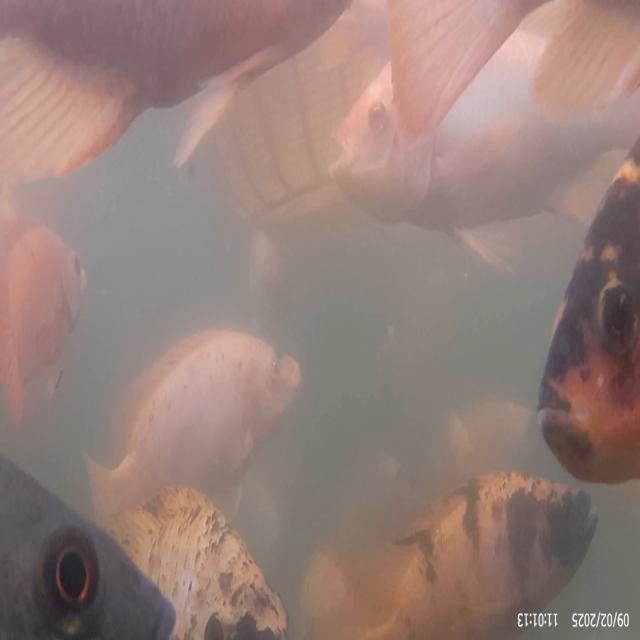ikan: (299, 468, 599, 638), (82, 325, 302, 524), (536, 132, 639, 484), (0, 452, 176, 638), (109, 482, 288, 638), (0, 216, 86, 425)
